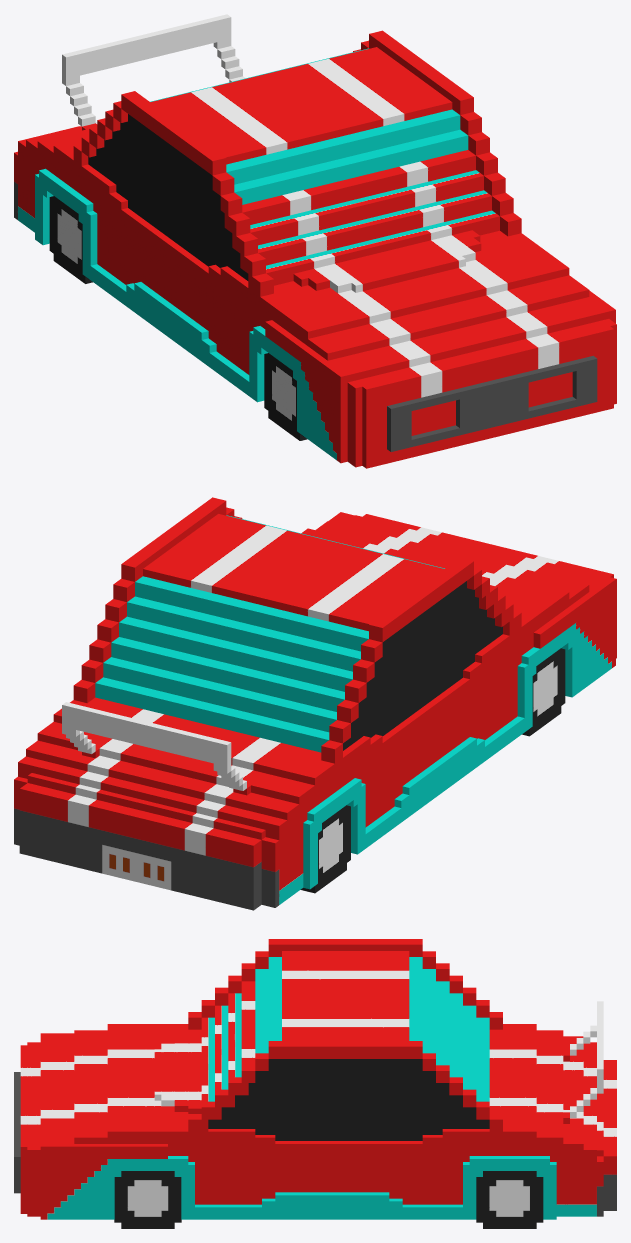
Rendered from Character_1.fbx.
3 renders of one model, top to bottom at view 1: azimuth 30°, elevation 25°; view 2: azimuth 150°, elevation 25°; view 3: azimuth 270°, elevation 25°, orthographic. The views are drawn at different scales.
Visible parts, largest first — view 1: Character_1; view 2: Character_1; view 3: Character_1.
Boxes of the visible parts, x1,y1,x2,y2 form: Character_1: (14,14,616,468); Character_1: (14,497,616,910); Character_1: (14,939,616,1228).
Size of the model in its own units: 40 by 30 by 90.
